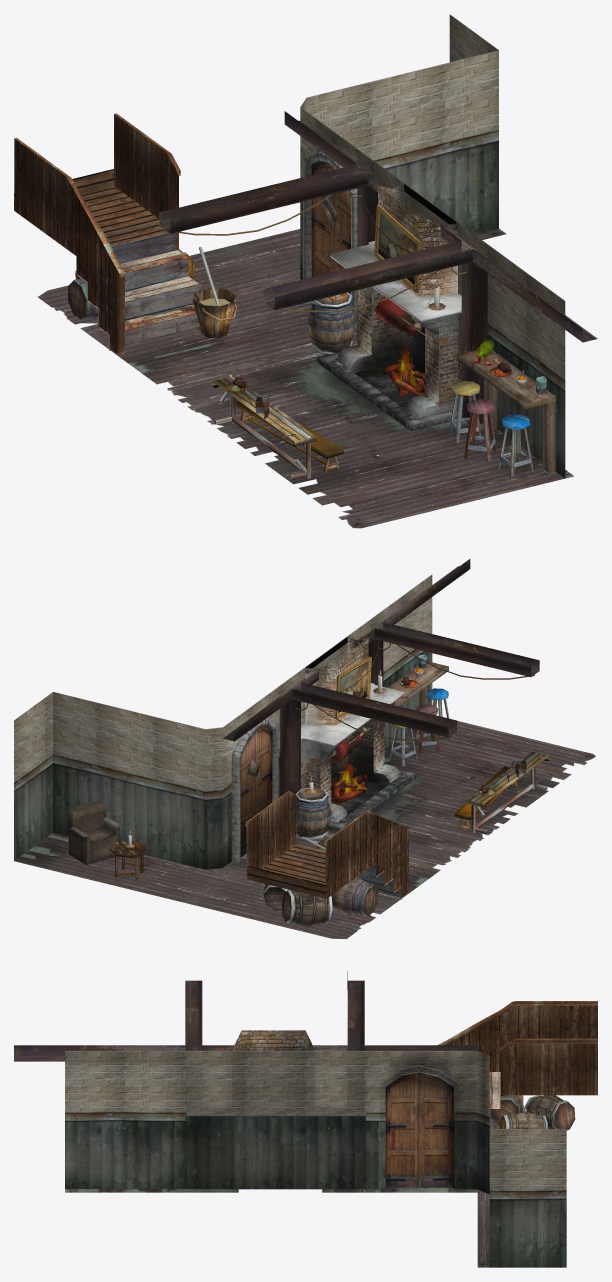
3 views of the same model, one above another, from view 1: azimuth 30°, elevation 25°; view 2: azimuth 150°, elevation 25°; view 3: azimuth 270°, elevation 25° (orthographic). The views are drawn at different scales.
Visible parts, largest first — view 1: Object_9, Object_5, Object_7, Object_6, Object_8, Object_4; view 2: Object_9, Object_5, Object_7, Object_8, Object_4, Object_6, Object_3; view 3: Object_9, Object_7, Object_5, Object_4.
Part boxes in pixels (<box>): Object_9: <box>14,14,573,528</box>; Object_5: <box>159,111,597,431</box>; Object_7: <box>14,113,180,355</box>; Object_6: <box>212,286,546,479</box>; Object_8: <box>449,349,555,477</box>; Object_4: <box>68,247,357,354</box>; Object_9: <box>14,574,595,939</box>; Object_5: <box>223,559,539,862</box>; Object_7: <box>245,790,408,898</box>; Object_8: <box>68,661,449,880</box>; Object_4: <box>262,787,378,927</box>; Object_6: <box>125,654,549,847</box>; Object_3: <box>129,669,381,835</box>; Object_9: <box>65,1050,566,1267</box>; Object_7: <box>437,1001,597,1095</box>; Object_5: <box>14,971,477,1086</box>; Object_4: <box>489,1089,575,1130</box>.
Size of the model in its own units: 7.1 by 3.1 by 10.99.
Materials: 7 (7 with a texture image).
